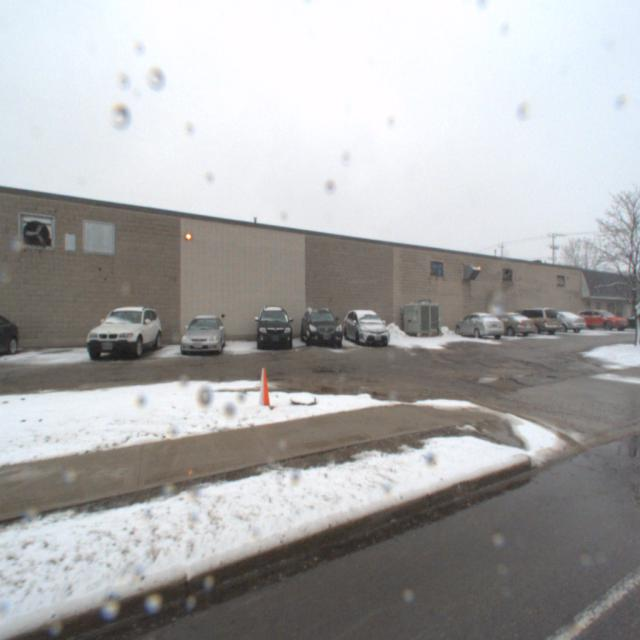Car: (75, 295, 165, 359), (173, 306, 227, 356), (295, 301, 347, 351), (340, 306, 392, 348), (494, 309, 564, 339), (255, 298, 293, 351), (450, 312, 506, 344), (564, 312, 628, 338), (477, 314, 537, 341), (524, 314, 588, 338)
